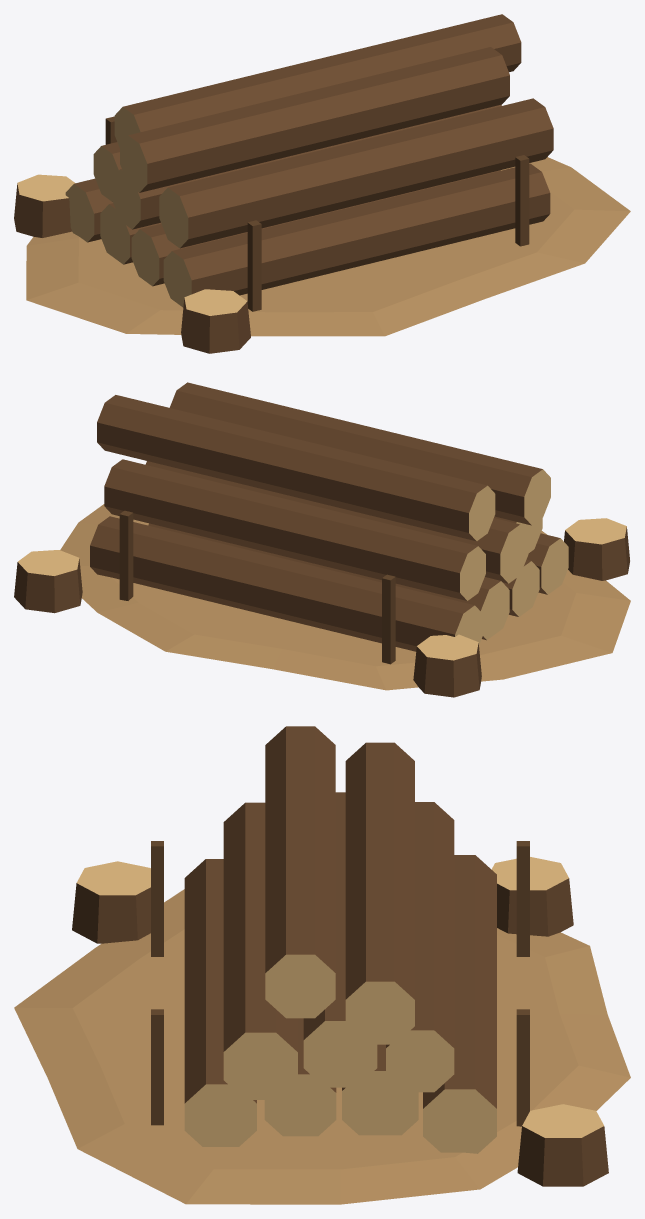
File: timber_stack.glb
3 renders of one model, top to bottom at view 1: azimuth 30°, elevation 25°; view 2: azimuth 150°, elevation 25°; view 3: azimuth 270°, elevation 25°, orthographic. The views are drawn at different scales.
Visible parts, largest first — view 1: timber_stack; view 2: timber_stack; view 3: timber_stack.
Boxes of the visible parts, box(x1,y1,x2,y2) form: timber_stack: box(14, 14, 630, 353); timber_stack: box(14, 382, 630, 697); timber_stack: box(14, 726, 630, 1204).
Bounding box in the file's own units: 3.46 × 0.9086 × 2.63.
